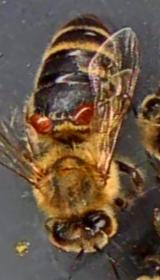varroa_mite: (65, 100, 98, 134), (28, 110, 56, 144)
